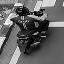mobil: (5, 5, 57, 58)
